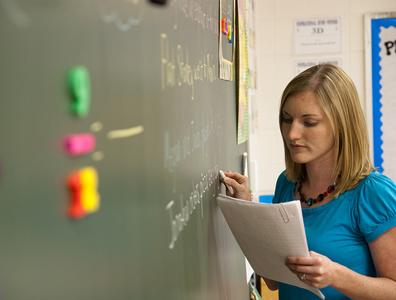person: (222, 64, 396, 300)
